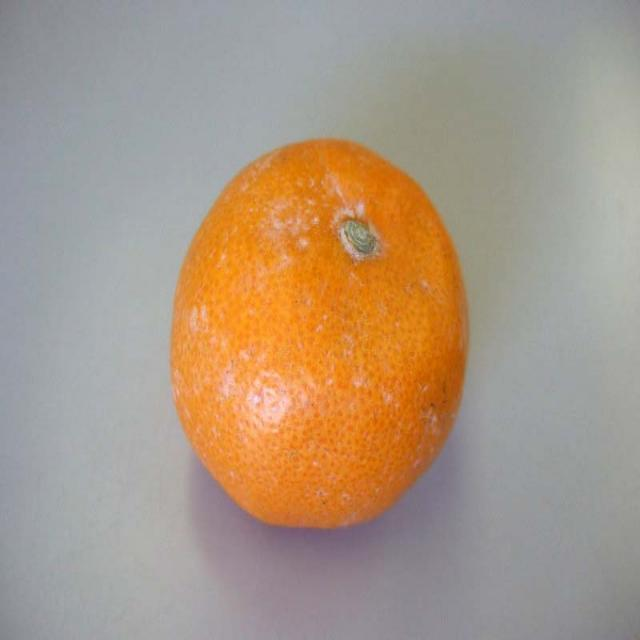Orange: (168, 136, 474, 533)
